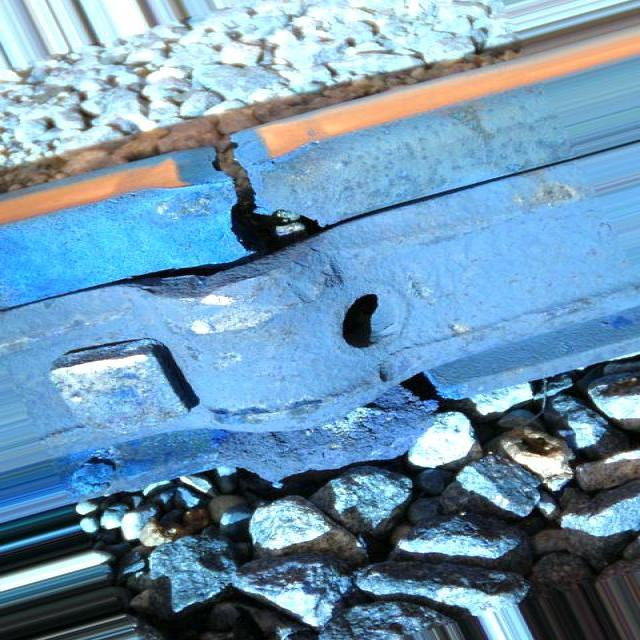crack: (92, 107, 551, 522)
